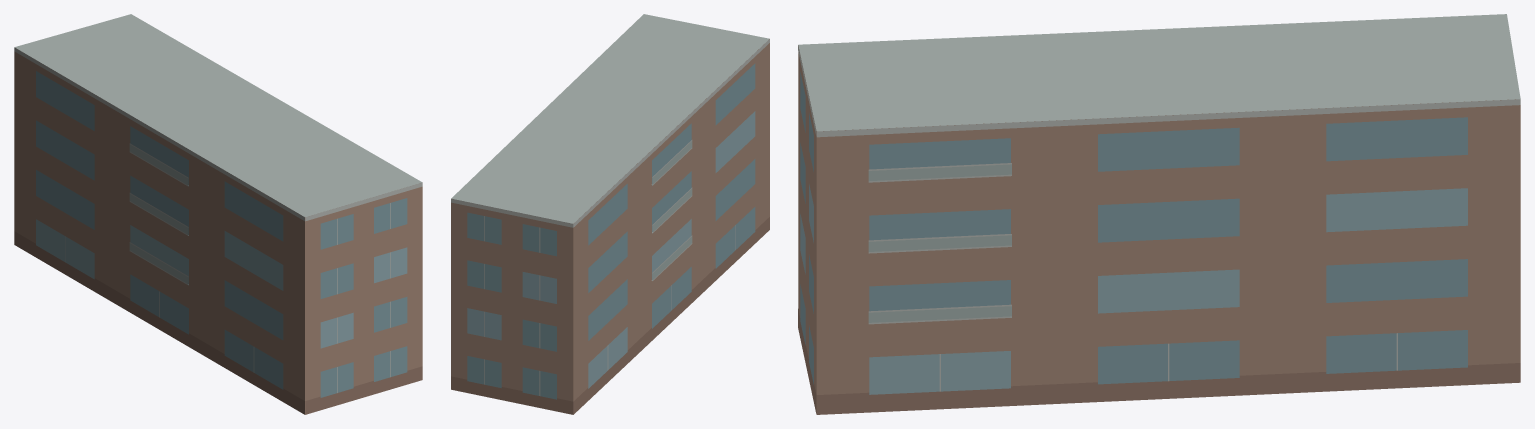
The model's file is survey-upis-32743114.glb.
3 renders of one model, left to right at view 1: azimuth 30°, elevation 25°; view 2: azimuth 150°, elevation 25°; view 3: azimuth 270°, elevation 25°, orthographic. The views are drawn at different scales.
Visible parts, largest first — view 1: survey-upis-32743114.tmp; view 2: survey-upis-32743114.tmp; view 3: survey-upis-32743114.tmp.
Part boxes in pixels (x1=…): survey-upis-32743114.tmp: x1=14, y1=14, x2=422, y2=414; survey-upis-32743114.tmp: x1=451, y1=14, x2=769, y2=414; survey-upis-32743114.tmp: x1=798, y1=14, x2=1520, y2=414.
Bounding box in the file's own units: 10.4 × 11.7 × 27.04.
